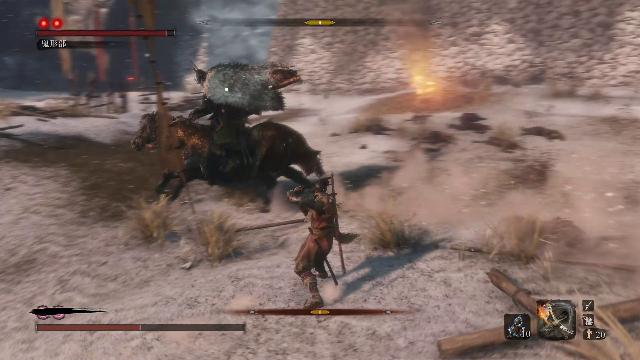sk: (282, 177, 340, 315)
